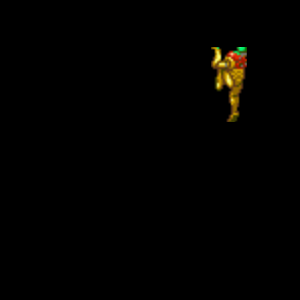Collectible: (211, 47, 247, 122)
